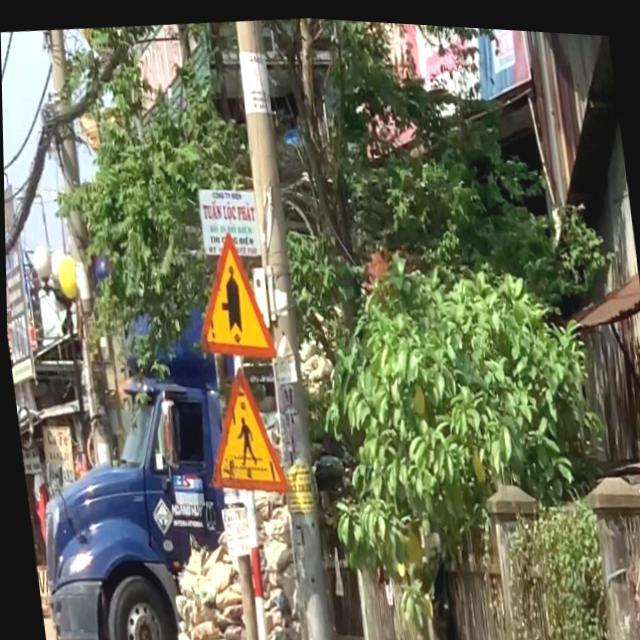Giao nhau voi duong khong uu tien ben trai: (184, 221, 277, 363)
Nguoi di bo cat ngang: (193, 356, 288, 498)
